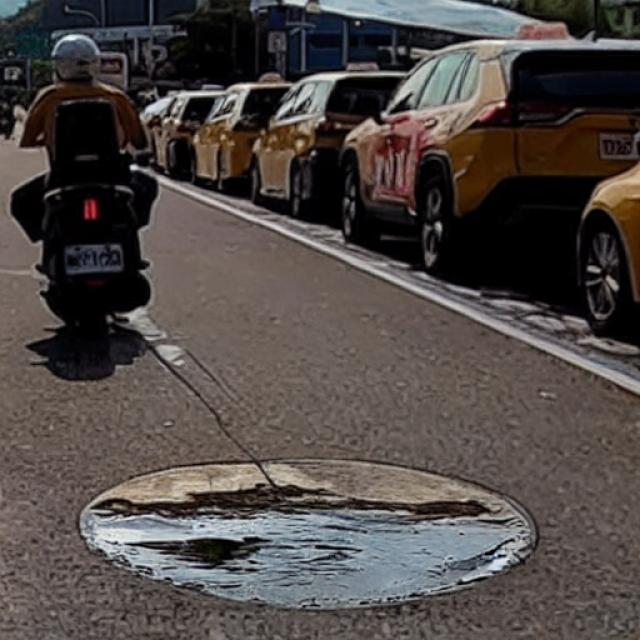puddle: (81, 460, 537, 605)
